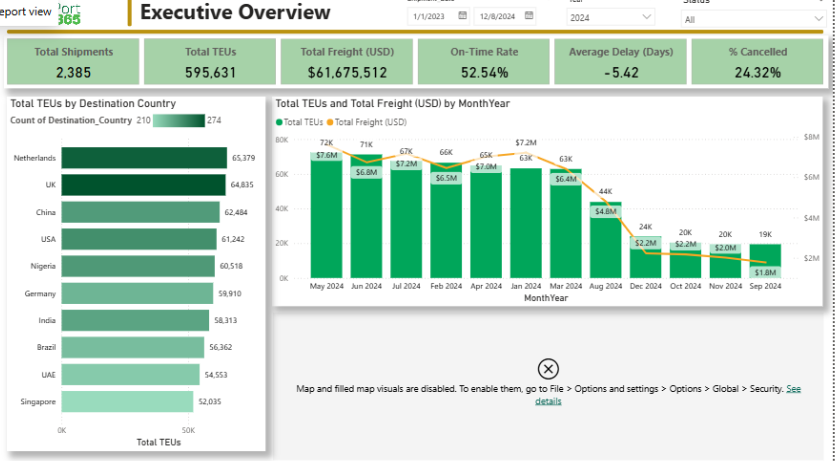

This screenshot's page, from the dashboard's own definition file:
{"tool":"powerbi","page":{"name":"Executive Overview","canvas":[1280,720],"ordinal":1},"visuals":[{"type":"textbox","box":[209.8,3,350.7,60],"z":0,"group":"g1"},{"type":"cardVisual","title":"Total Shipments","fields":{"Data":["_Measures.Total Shipments","_Measures.Total TEUs","_Measures.Total Freight (USD)","_Measures.On-Time Rate","_Measures.Average Delay (Days)","_Measures.% Cancelled"]},"box":[7.5,67.4,1265,80.9],"z":0},{"type":"slicer","fields":{"Values":["Shipments.Year"]},"box":[860.3,0,155.9,60],"z":1000},{"type":"shape","box":[95.9,7.5,206.8,46.5],"z":1000,"group":"g1"},{"type":"shape","box":[11.8,45.8,1253.4,32.5],"z":2000},{"type":"slicer","fields":{"Values":["Shipments.Shipment_Date"]},"box":[613,0,247.3,60],"z":3000},{"type":"image","box":[0,0,133.9,60.5],"z":4000},{"type":"slicer","fields":{"Values":["Shipments.Status"]},"box":[1035.7,0,244.3,60],"z":5000},{"type":"map","fields":{"Category":["Shipments.Destination_Country"],"Size":["_Measures.Total TEUs"]},"box":[420.5,491,845.3,226.1],"z":6000},{"type":"lineStackedColumnComboChart","fields":{"Y2":["_Measures.Total Freight (USD)"],"Y":["_Measures.Total TEUs"],"Category":["DimDate.MonthYear"]},"box":[419,161.3,845.3,321.1],"z":7000},{"type":"clusteredBarChart","fields":{"Category":["Shipments.Destination_Country"],"Y":["_Measures.Total TEUs"]},"box":[11.5,161.3,397.4,542.9],"z":8000},{"type":"group","id":"g1","title":"Group 1","box":[95.9,3,464.6,60],"z":9000}]}

Visuals, with their boxes in screenshot pixels (x1, y1, x2, y2), scaled from the page's 1280x720 canvas onto the 836x461 screenshot:
textbox: 137,2,366,40
"Total Shipments" cardVisual: 5,43,831,95
slicer - Shipments.Year: 562,0,664,38
shape: 63,5,198,35
shape: 8,29,826,50
slicer - Shipments.Shipment_Date: 400,0,562,38
image: 0,0,87,39
slicer - Shipments.Status: 676,0,835,38
map - Shipments.Destination_Country x _Measures.Total TEUs: 275,314,827,459
lineStackedColumnComboChart - _Measures.Total Freight (USD) x _Measures.Total TEUs: 274,103,826,309
clusteredBarChart - Shipments.Destination_Country x _Measures.Total TEUs: 8,103,267,451
"Group 1" group: 63,2,366,40
